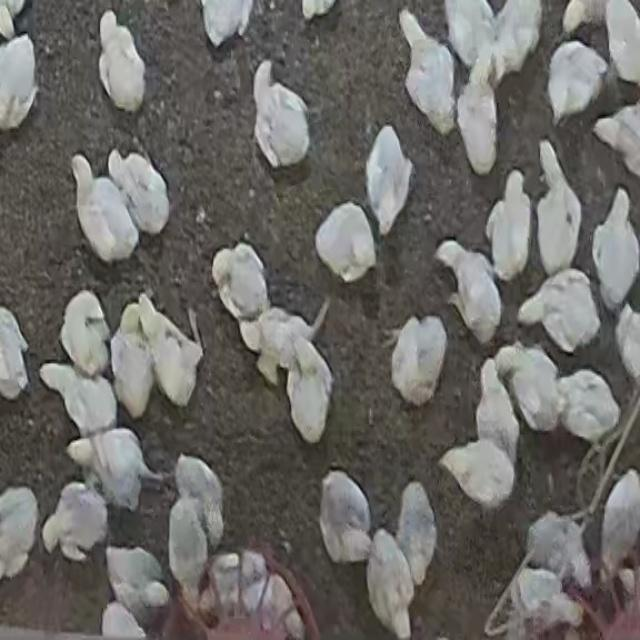chicken: (200, 552, 299, 638), (400, 9, 457, 135), (73, 153, 138, 263), (84, 426, 166, 512), (438, 241, 502, 348), (520, 269, 599, 354), (533, 138, 581, 276), (252, 58, 310, 170), (41, 362, 118, 439), (593, 185, 638, 311), (390, 311, 448, 408), (104, 544, 169, 630), (441, 438, 516, 512), (42, 482, 109, 562), (488, 167, 533, 285), (546, 39, 608, 124), (109, 148, 170, 234), (366, 126, 413, 236), (97, 8, 146, 113), (366, 532, 414, 639), (254, 308, 318, 388), (314, 202, 376, 284), (474, 355, 520, 465), (536, 440, 602, 516), (319, 470, 372, 564), (556, 368, 619, 444), (395, 480, 439, 588), (213, 242, 269, 326), (288, 338, 332, 444), (59, 290, 111, 378), (598, 471, 639, 582), (153, 321, 205, 407), (168, 496, 208, 607), (456, 70, 498, 175), (176, 454, 223, 547), (112, 312, 154, 416), (264, 274, 329, 338), (493, 1, 544, 75), (0, 33, 38, 128), (1, 486, 38, 580), (594, 103, 640, 178), (444, 1, 492, 68), (603, 0, 640, 83), (107, 503, 167, 553), (1, 308, 30, 400), (207, 553, 244, 618), (201, 1, 254, 46), (537, 422, 586, 462), (562, 0, 610, 34), (301, 0, 338, 21), (0, 5, 17, 40)
